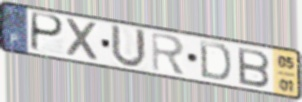B: (236, 45, 272, 89)
D: (198, 38, 233, 82)
P: (29, 11, 66, 54)
R: (150, 31, 186, 77)
U: (110, 22, 149, 70)
X: (65, 16, 101, 63)
